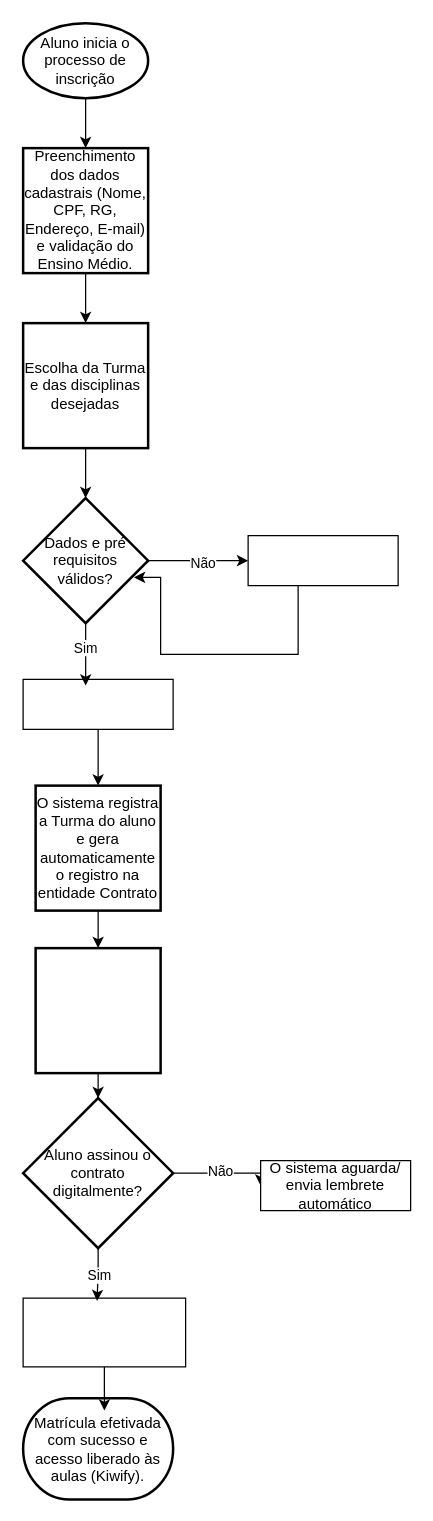
Some shapes in this 433 by 1521 pixel diagram are drawn without their labels. The shapes that lost their labels are listed below. From the top down, each one's centre as x and y in pixels, then its label:
[322,560]: Retorna mensagem de erro
[97,703]: Avança para a criação do vínculo.
[97,1010]: O sistema envia o contrato digital para o e-mail do aluno.
[104,1332]: O sistema atualiza o statusContrato para "Assinado e anexa a documentoUrl
